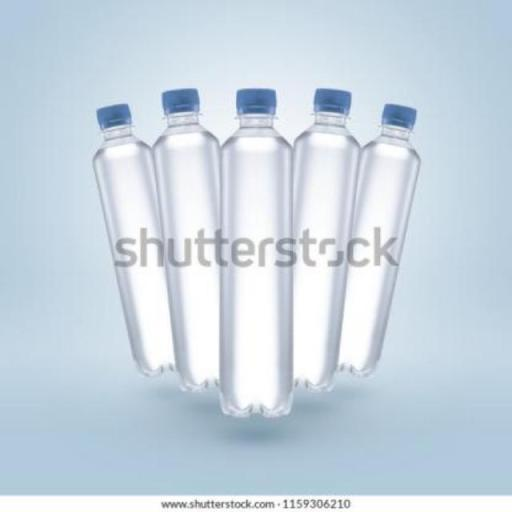Coca: (264, 77, 379, 400), (205, 79, 310, 428), (142, 81, 253, 401), (82, 93, 202, 382), (326, 95, 426, 388)
